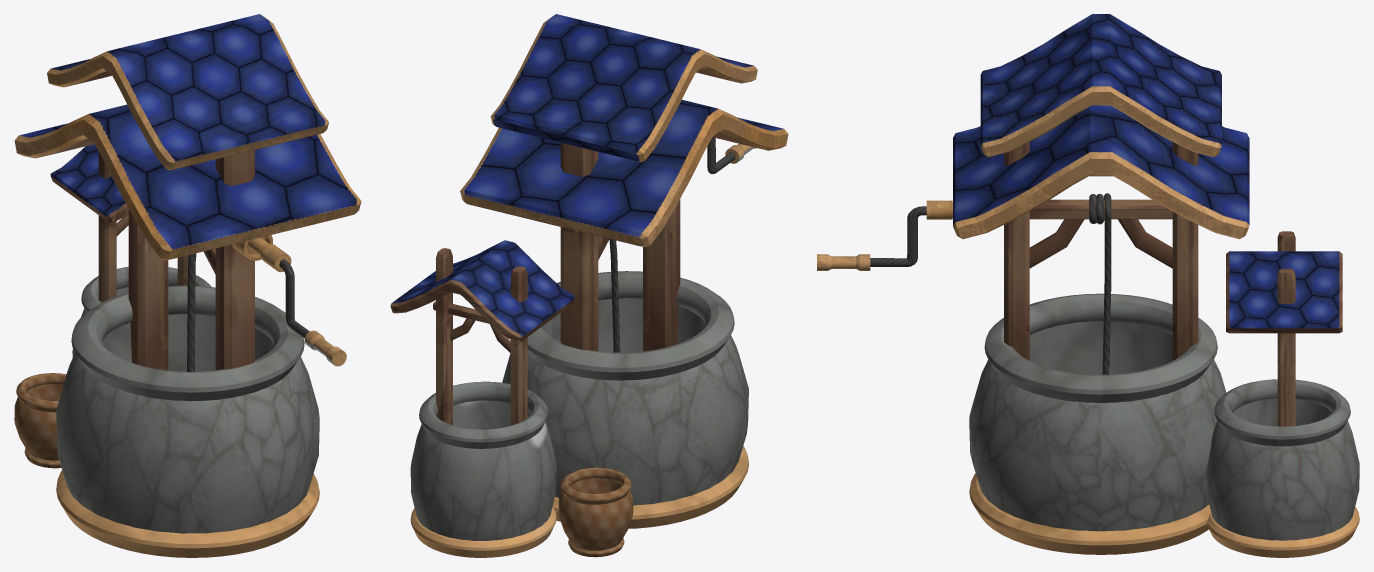
File: Well_Textured_3Tiers.fbx
3 renders of one model, left to right at view 1: azimuth 30°, elevation 25°; view 2: azimuth 150°, elevation 25°; view 3: azimuth 270°, elevation 25°, orthographic. The views are drawn at different scales.
Parts seen in each view (by area): view 1: Cylinder, Plane.001, Plane, Torus, Cube, Torus.001, Plane.002, Cylinder.004, Cube.004, Cylinder.001, Torus.004, Torus.002 (+3 smaller); view 2: Cylinder, Plane.001, Plane, Cylinder.003, Cube, Torus, Plane.002, Cube.004, Torus.002, Cylinder.004, Torus.001, Torus.003 (+4 smaller); view 3: Cylinder, Plane, Plane.001, Cylinder.003, Torus, Plane.002, Cube, Torus.001, Torus.002, Cube.004, Torus.003, Cube.001 (+4 smaller).
Boxes of the visible parts, x1,y1,x2,y2 form: Cylinder: (56, 314, 319, 533); Plane.001: (47, 14, 328, 170); Plane: (14, 104, 361, 260); Torus: (71, 285, 304, 401); Cube: (128, 150, 254, 370); Torus.001: (56, 470, 319, 557); Plane.002: (50, 144, 128, 223); Cylinder.004: (14, 384, 63, 460); Cube.004: (98, 151, 195, 302); Cylinder.001: (232, 235, 291, 272); Torus.004: (16, 373, 66, 412); Torus.002: (81, 267, 211, 311); Cylinder: (502, 298, 748, 505); Plane.001: (490, 14, 757, 161); Plane: (460, 100, 788, 246); Cylinder.003: (410, 400, 556, 540); Cube: (560, 142, 680, 351); Torus: (527, 271, 734, 380); Plane.002: (390, 240, 575, 343); Cube.004: (436, 248, 527, 425); Torus.002: (419, 381, 548, 448); Cylinder.004: (558, 478, 633, 550); Torus.001: (552, 446, 748, 528); Torus.003: (410, 507, 556, 557); Cylinder: (969, 321, 1226, 531); Plane: (953, 105, 1249, 239); Plane.001: (980, 14, 1221, 157); Cylinder.003: (1206, 398, 1359, 540); Torus: (984, 293, 1217, 402); Plane.002: (1226, 251, 1342, 333); Cube: (1004, 142, 1198, 360); Torus.001: (969, 473, 1210, 554); Torus.002: (1214, 379, 1350, 446); Cube.004: (1277, 231, 1295, 426); Torus.003: (1206, 507, 1359, 557); Cube.001: (1029, 199, 1172, 219).
Size of the model in its own units: 163 by 309 by 333.
